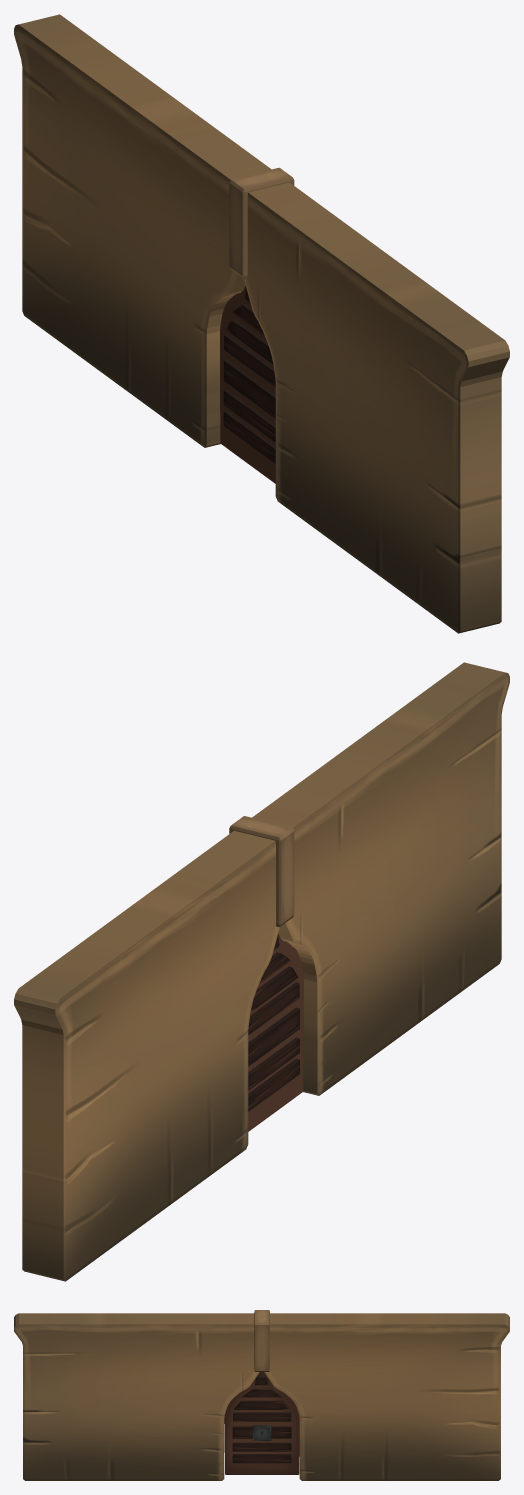
Rendered from Muro.fbx.
3 renders of one model, top to bottom at view 1: azimuth 30°, elevation 25°; view 2: azimuth 150°, elevation 25°; view 3: azimuth 270°, elevation 25°, orthographic. The views are drawn at different scales.
Visible parts, largest first — view 1: Cube, Cube.031; view 2: Cube, Cube.031; view 3: Cube, Cube.031.
Part boxes in pixels (x1,y1,x2,y2): Cube: [14, 14, 509, 633]; Cube.031: [220, 286, 275, 483]; Cube: [14, 662, 509, 1281]; Cube.031: [248, 934, 303, 1131]; Cube: [14, 1310, 509, 1480]; Cube.031: [224, 1372, 299, 1474].
Bounding box in the file's own units: 284 × 1533 × 4338.
5 materials, 5 textured.
